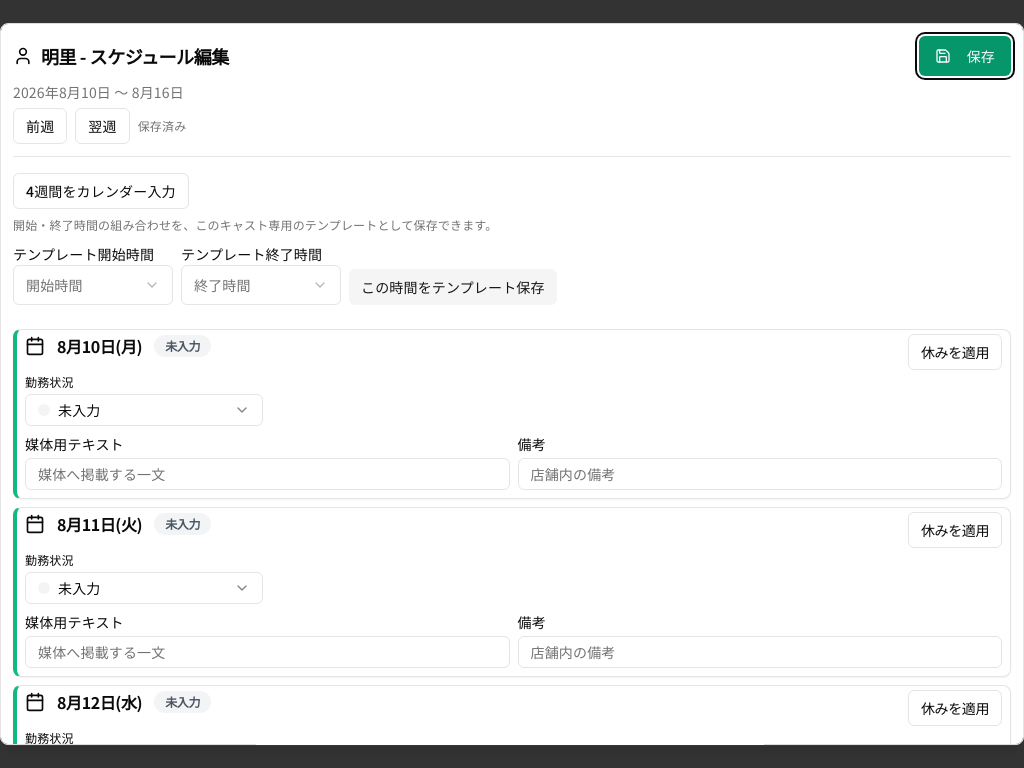
ScheduleEditDialog day templates › uses the same six work states as the cast profile schedule
This screenshot has width=1024, height=768.
What coordinates should you click on to do the following:
click the dropdown named "勤務状況"
I would click on:
 (144, 410)
Its box is [25,394,263,426].
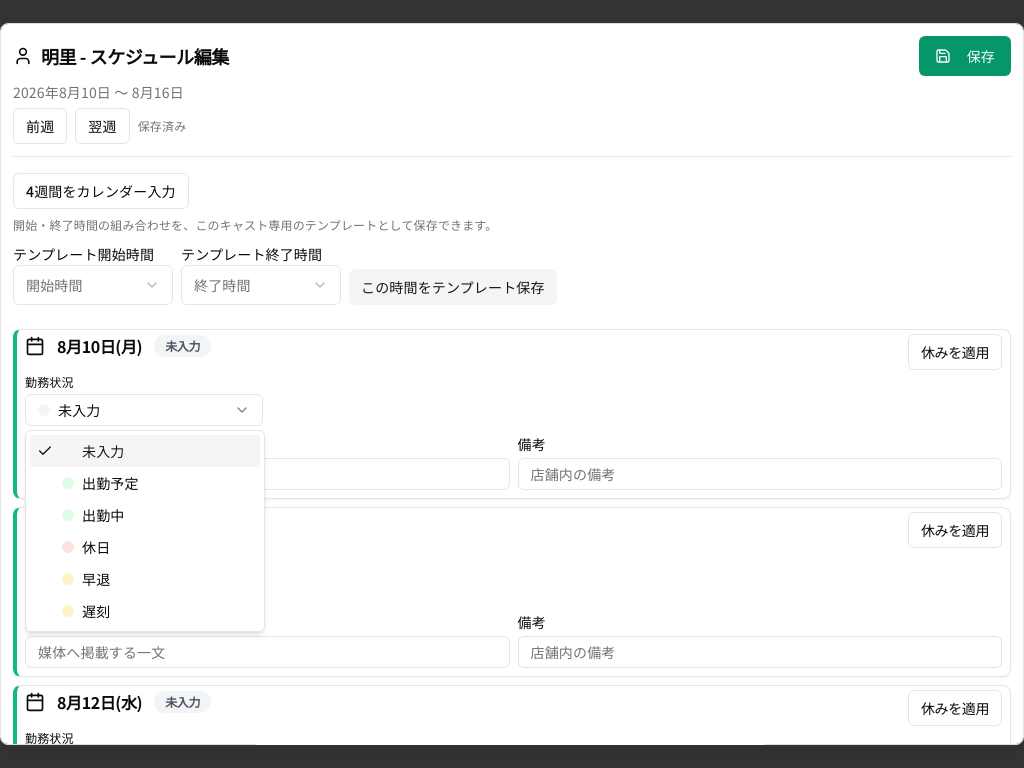
Expected: the option "未入力" is shown, [30,435,260,467]
Expected: the option "出勤予定" is shown, [62,473,139,493]
Expected: the option "出勤中" is shown, [62,505,124,525]
